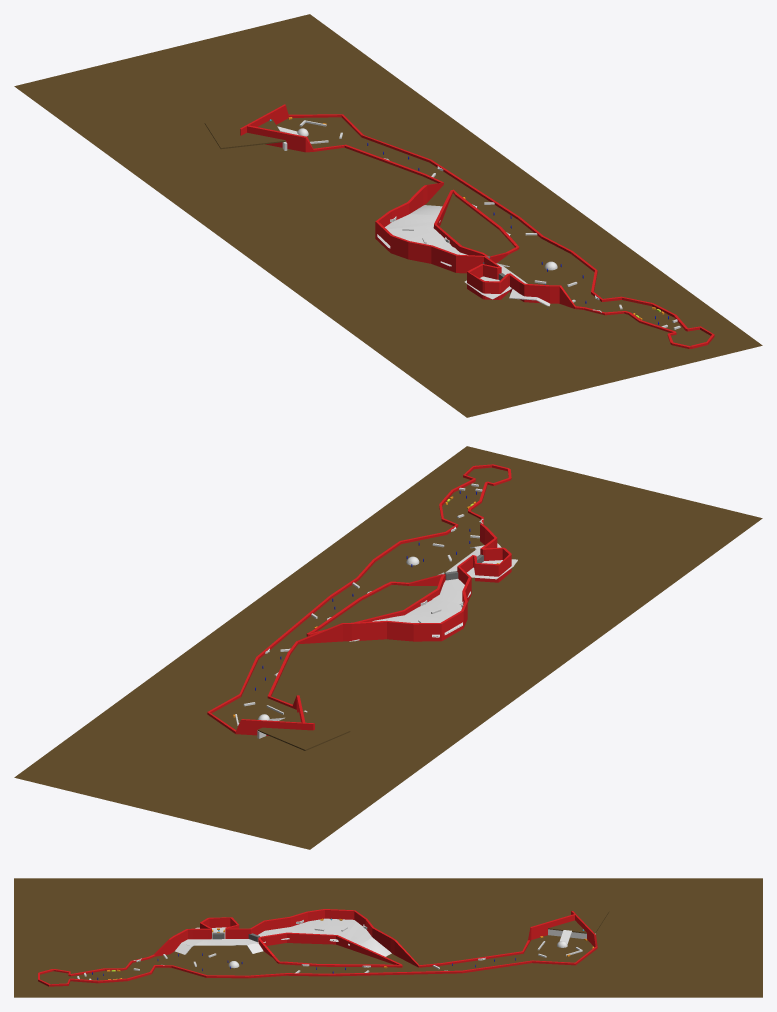
The model's file is finishedBO.fbx.
The picture shows the model from 3 angles, top to bottom: view 1: azimuth 30°, elevation 25°; view 2: azimuth 150°, elevation 25°; view 3: azimuth 270°, elevation 25°; orthographic projection. The views are drawn at different scales.
Parts seen in each view (by area): view 1: planne, Wall, 2nFloor, Cube.033; view 2: planne, Wall, 2nFloor, Cube.033; view 3: planne, Wall, 2nFloor, Cube.033.
Part boxes in pixels (box(x1,y1,x2,y2)): planne: box(14, 14, 762, 417); Wall: box(240, 104, 714, 348); 2nFloor: box(377, 205, 536, 300); Cube.033: box(204, 116, 285, 149); planne: box(14, 446, 762, 849); Wall: box(207, 464, 511, 735); 2nFloor: box(349, 544, 517, 641); Cube.033: box(257, 711, 350, 750); planne: box(14, 878, 762, 997); Wall: box(38, 909, 597, 986); 2nFloor: box(185, 918, 391, 956); Cube.033: box(548, 905, 609, 933).
Size of the model in its own units: 947 by 89.92 by 2511.
